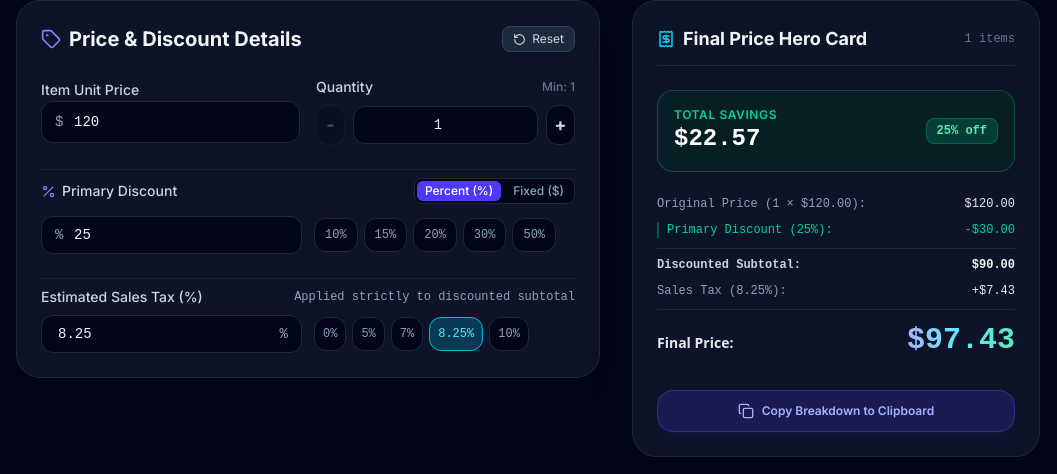
it: OmniCalc Acceptance Test Suite (Stories S-1 to S-7) › Story S-1: Discount & Tax Calculation › caps fixed dollar discount overflow: $100 price with $150 fixed discount -> subtotal $0.00, final $0.00
Step 1. Replace the text in the number field labelled "Item Unit Price" with "100" → (170, 122), box [41,101,300,143]
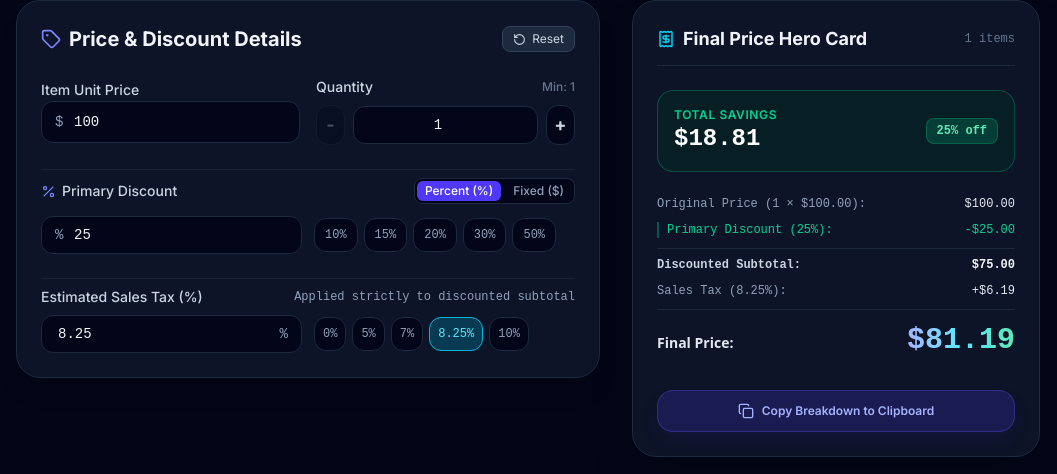
# Switch to Fixed ($)
Step 2. Click the button "Fixed ($)" → (539, 191), box [505,181,572,201]
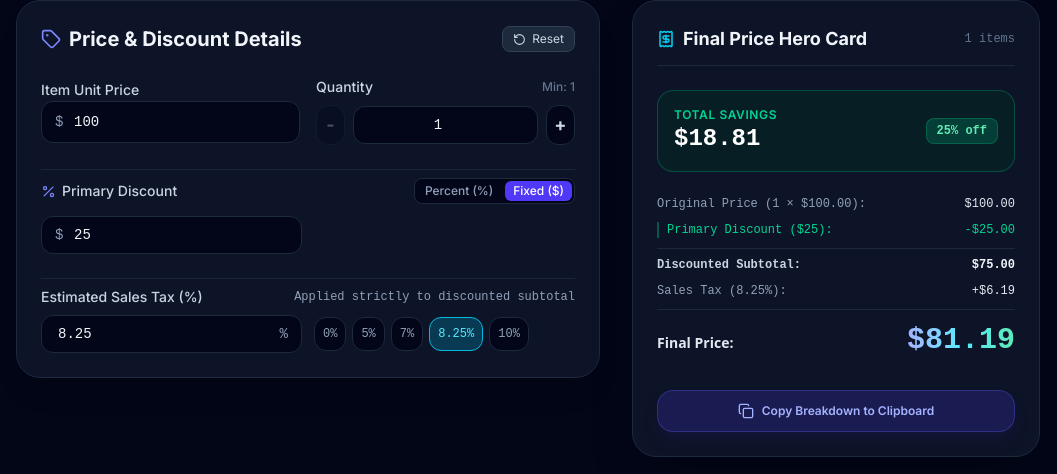
Step 3. Replace the text in the 2nd number field showing "25" with "150" → (172, 235), box [41,216,302,254]
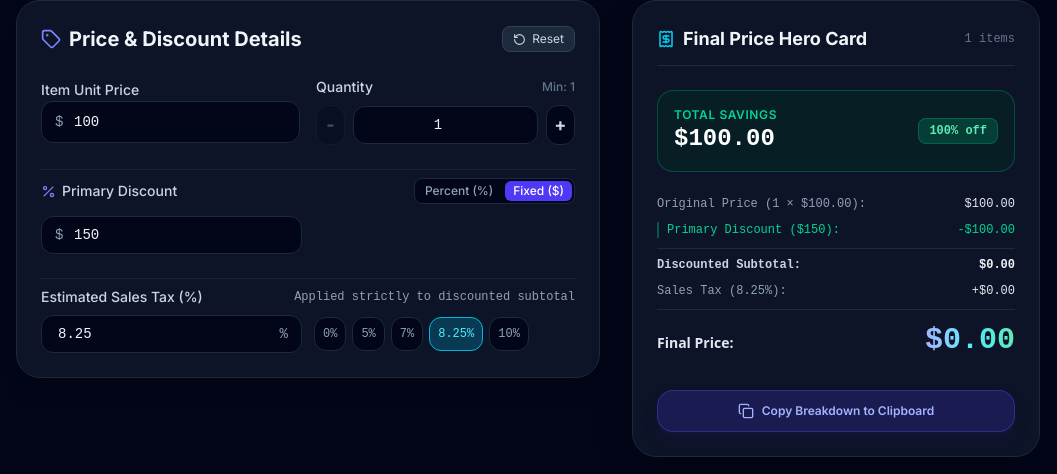
Expected: the element showing "Discounted Subtotal: $0.00" is shown, [657,248,1015,273]
Expected: the element showing "Final Price: $0.00" is shown, [657,309,1015,358]
